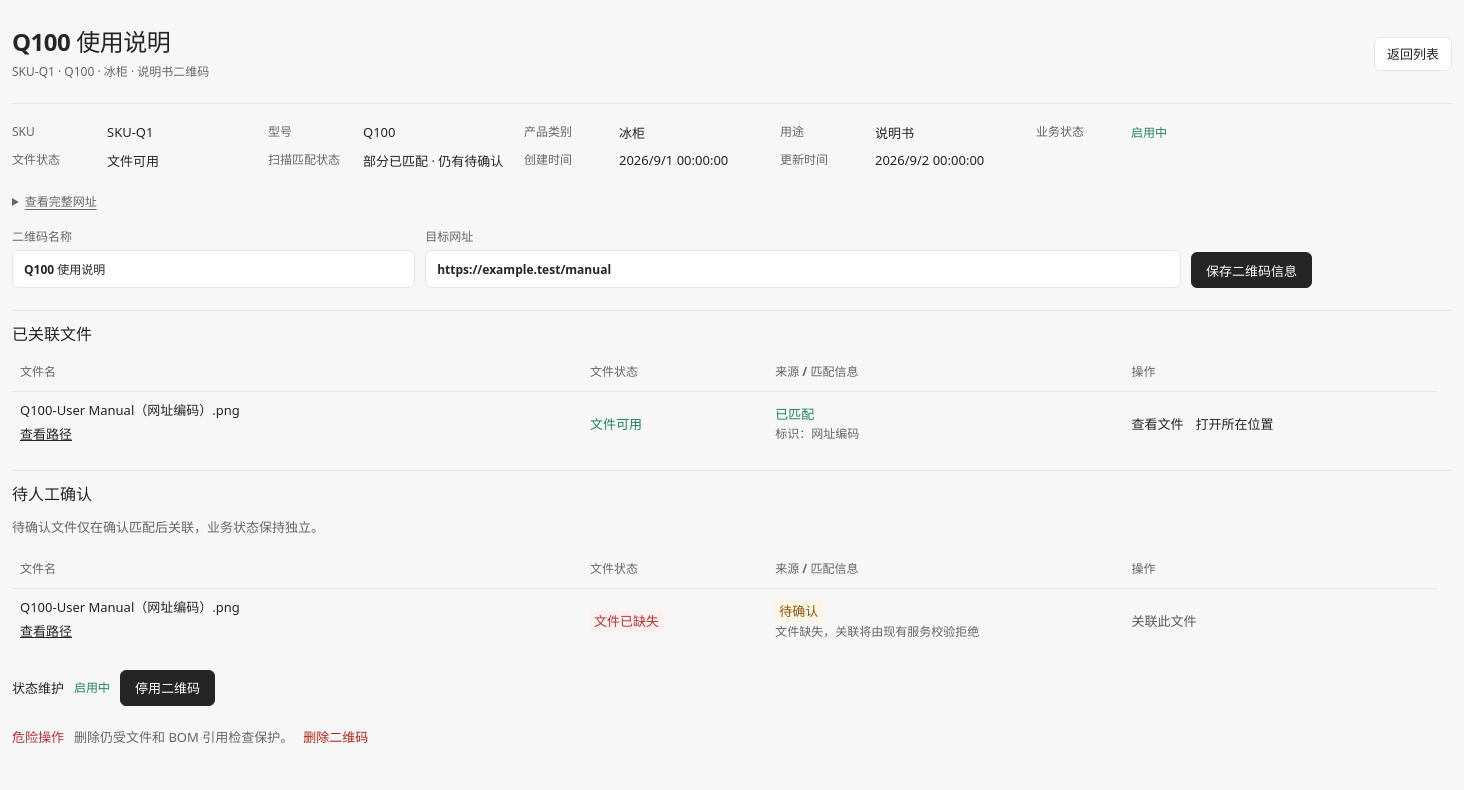
QrCodesPage › keeps v2 path disclosure beneath the complete filename without changing file actions
This screenshot has width=1464, height=790.
Check: the heading "Q100 使用说明" is shown, box [12, 25, 170, 58]
Check: the cell "查看路径" in the row of "标识：" shows "Q100-User Manual（网址编码）.png", box [20, 400, 240, 418]
Click the button "查看路径" in the row of "标识：". click: (46, 434)
box: [20, 420, 72, 448]
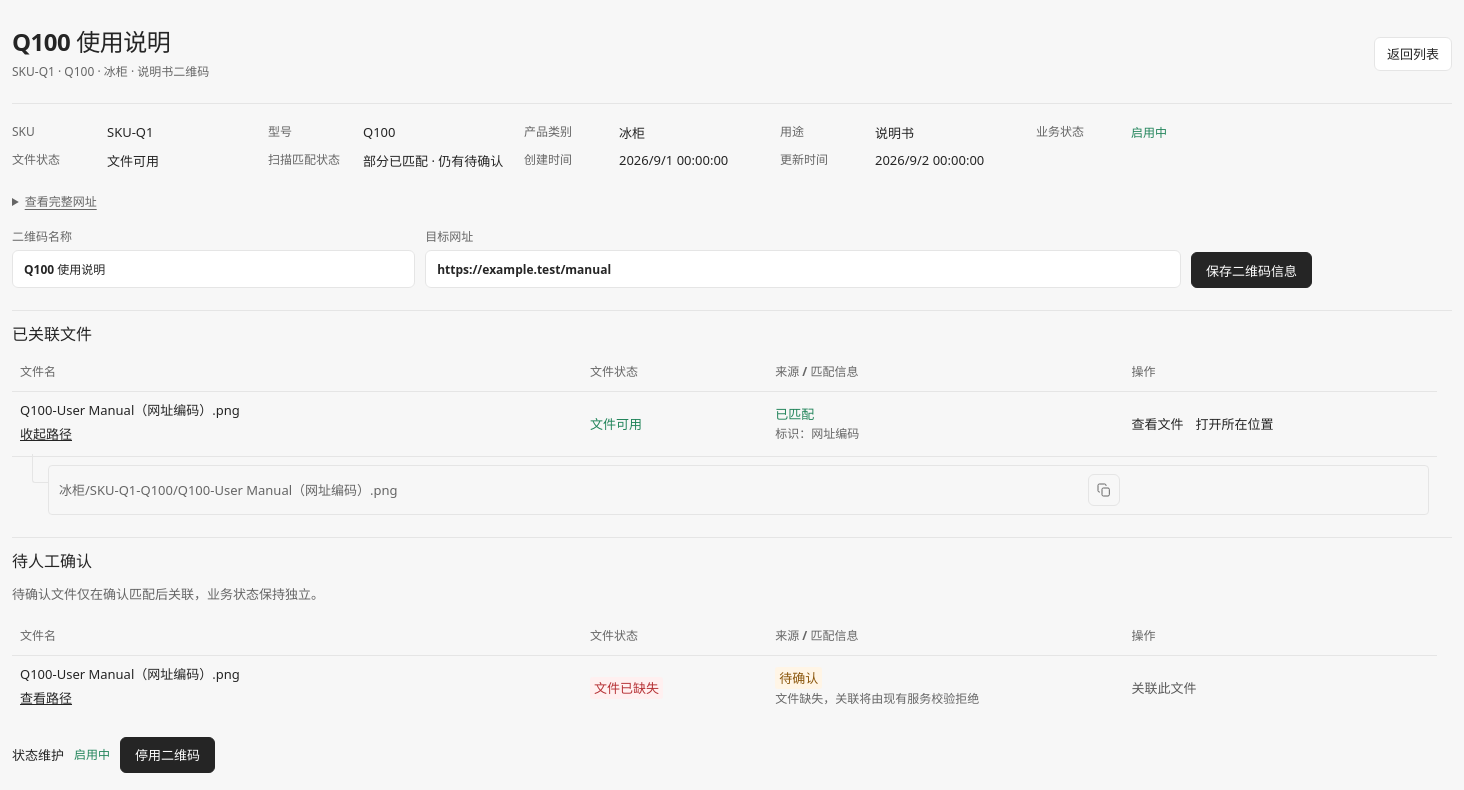
Check: the text "冰柜/SKU-Q1-Q100/Q100-User Manual（网址编码）.png" is shown, box [59, 480, 398, 498]
